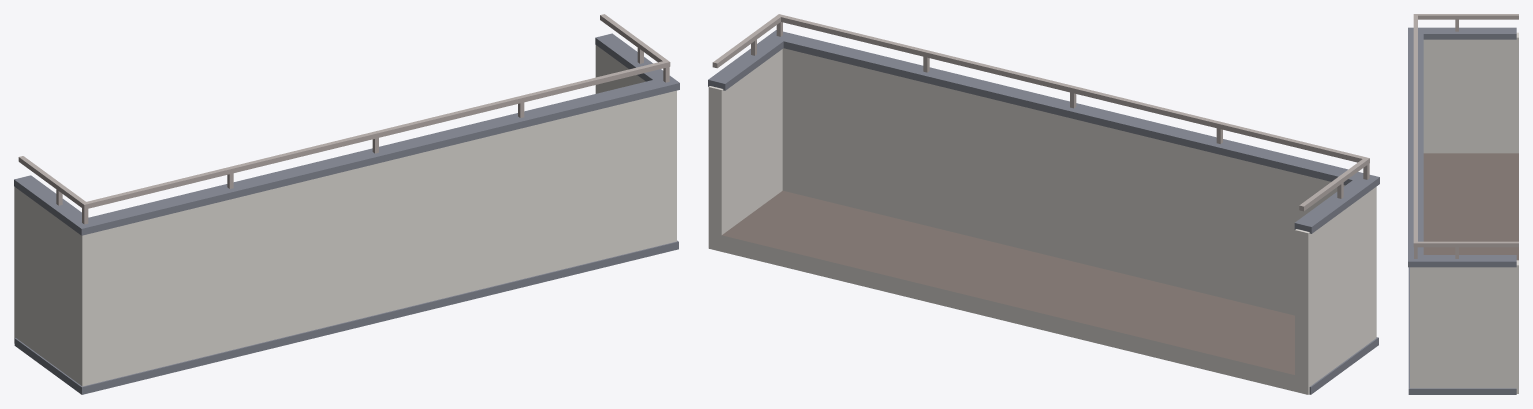
Rendered from SM_Fixture_BalconyFull_White_455_01.gltf.
The picture shows the model from 3 angles, left to right: view 1: azimuth 30°, elevation 25°; view 2: azimuth 150°, elevation 25°; view 3: azimuth 270°, elevation 25°; orthographic projection. The views are drawn at different scales.
Visible parts, largest first — view 1: SM_Fixture_BalconyFull_White_455_01; view 2: SM_Fixture_BalconyFull_White_455_01; view 3: SM_Fixture_BalconyFull_White_455_01.
Boxes of the visible parts, x1,y1,x2,y2 form: SM_Fixture_BalconyFull_White_455_01: (14,14,679,394); SM_Fixture_BalconyFull_White_455_01: (708,14,1379,394); SM_Fixture_BalconyFull_White_455_01: (1408,14,1518,394).
Size of the model in its own units: 4.57 by 1.36 by 0.915.
1 material, 1 textured.
